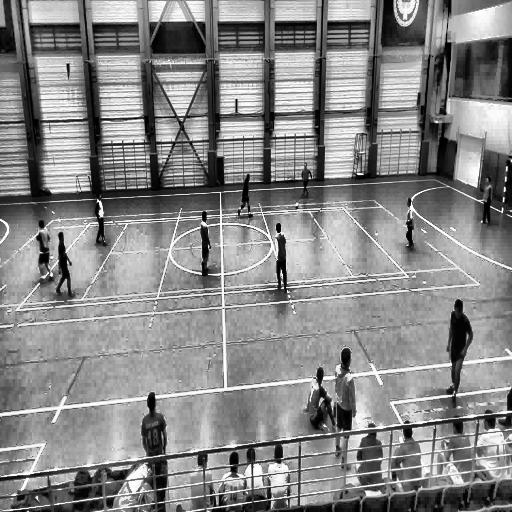ball: (295, 202, 299, 209)
player: (445, 300, 473, 404), (332, 347, 356, 468), (141, 392, 167, 472), (306, 366, 334, 433), (266, 441, 292, 509), (55, 231, 74, 297), (36, 220, 53, 285), (273, 222, 288, 292), (200, 210, 212, 276), (94, 190, 108, 245), (238, 174, 254, 216), (480, 175, 492, 225), (405, 197, 414, 251), (301, 164, 312, 198)
